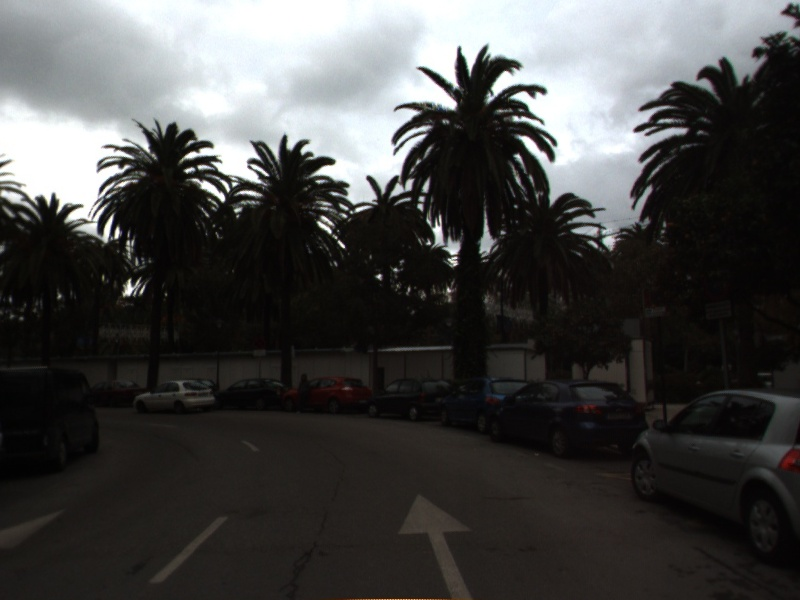STRAIGHT: (394, 488, 477, 600)
